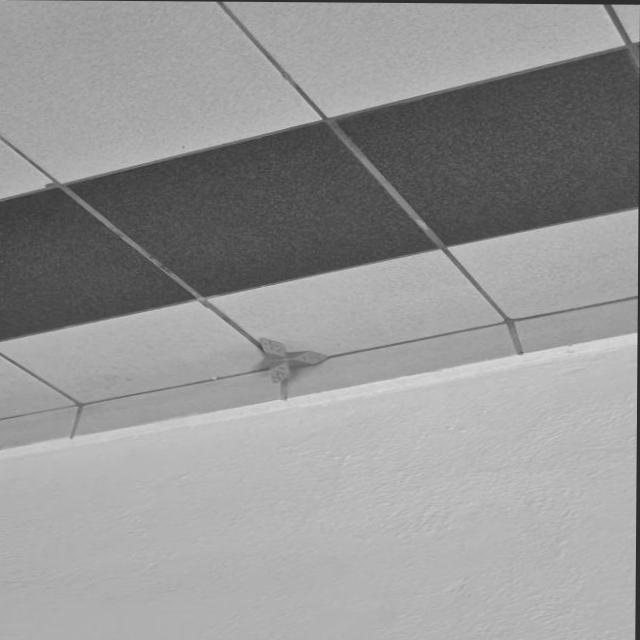eje: (258, 337, 330, 385)
